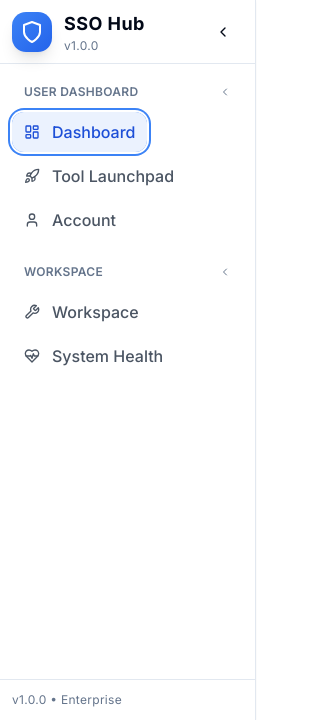
Test: Sidebar Component › should handle sidebar collapse/expand
The image size is (320, 720).
Click the button named "Collapse sidebar": x=223, y=32 [203,12,243,52]
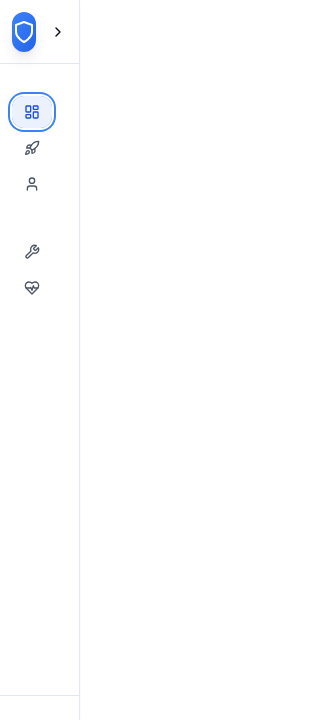
Check: the button named "Expand sidebar" is shown, box [48,12,67,52]
